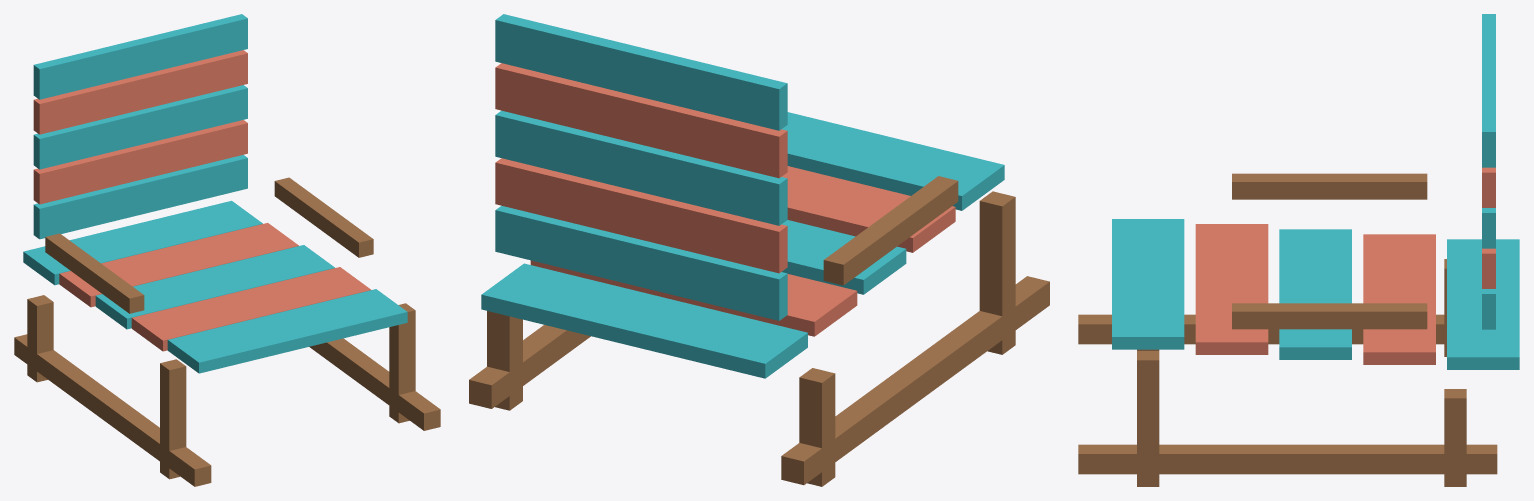
File: xy_beach_deckchair.glb
The picture shows the model from 3 angles, left to right: view 1: azimuth 30°, elevation 25°; view 2: azimuth 150°, elevation 25°; view 3: azimuth 270°, elevation 25°; orthographic projection. The views are drawn at different scales.
Parts seen in each view (by area): view 1: Deckchair; view 2: Deckchair; view 3: Deckchair.
Part boxes in pixels (x1=…): Deckchair: x1=14, y1=14, x2=440, y2=486; Deckchair: x1=469, y1=14, x2=1049, y2=486; Deckchair: x1=1078, y1=14, x2=1519, y2=486.
Bounding box in the file's own units: 1.18 × 1.36 × 1.58.
